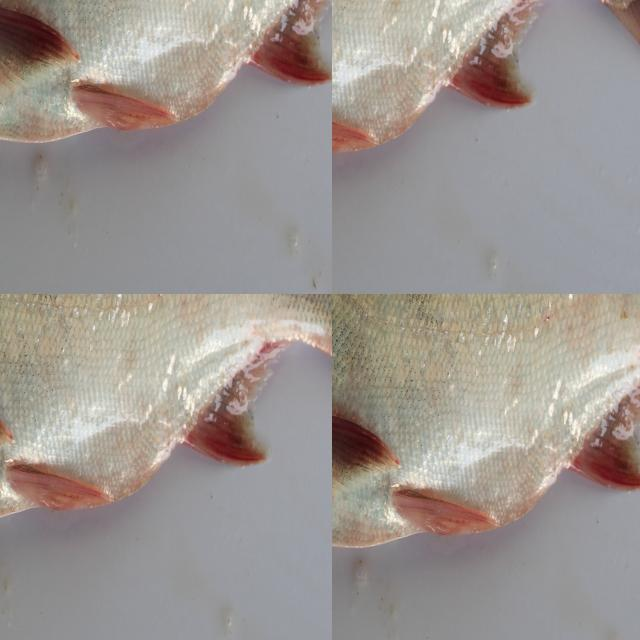fish: (332, 294, 640, 593)
